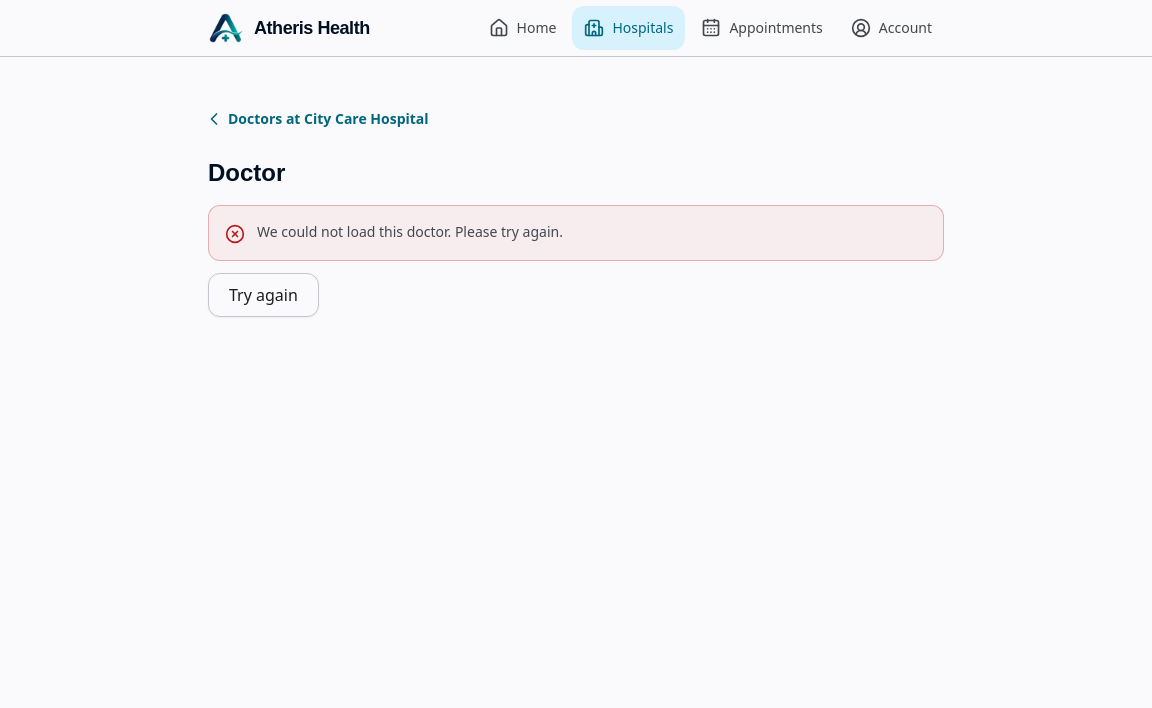
Test: doctor discovery — one doctor › when it cannot load › on the profile OFFLINE and 503 are told apart, in the app’s words, and Retry asks again
Expected: the message reads "We could not load this doctor. Please try again.", [257,222,563,241]
Click the button "Try again" at x=263, y=295, box [208,273,319,317]
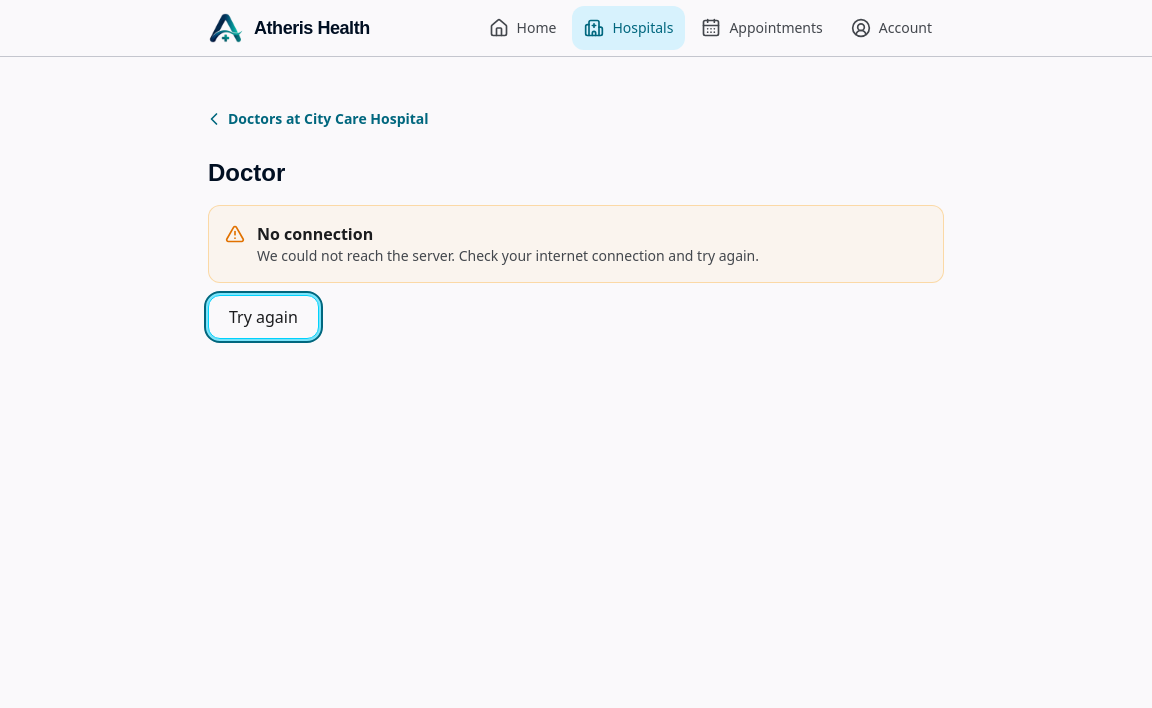
Result: the message shows "No connection" at [257,223,373,245]
Result: the text "We could not load this doctor. Please try again." is gone
Click the button "Try again" at x=263, y=317, box [208,295,319,339]
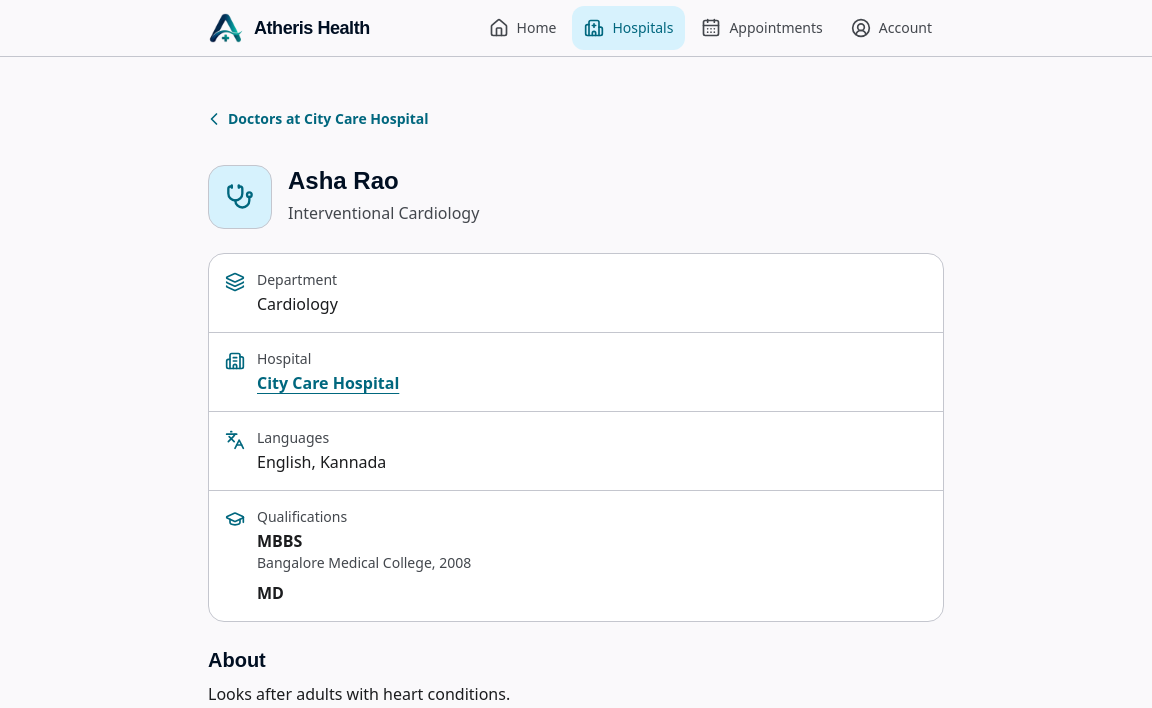
Result: the heading "Asha Rao" is shown at [288,167,399,194]
Result: the message "No connection We could not reach the server. Check your internet connection and" is gone
